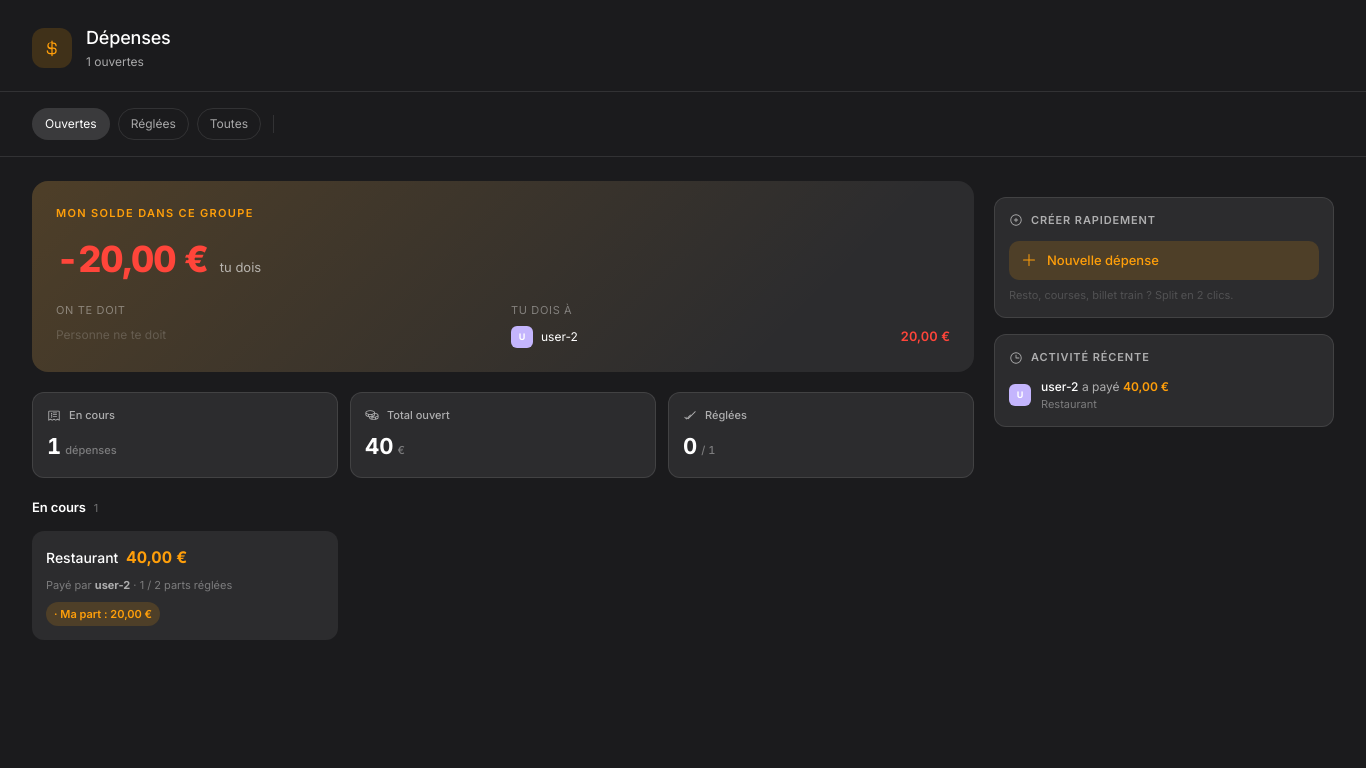
Scenario: Actions destructives — grisées, jamais masquées (MAN-246) › ExpensesDashboard › laisse « Supprimer » visible et inerte pour un membre simple qui n'est pas l'auteur
Step 1. Click the button "Restaurant" → {"x": 185, "y": 586}, box [32, 531, 338, 640]
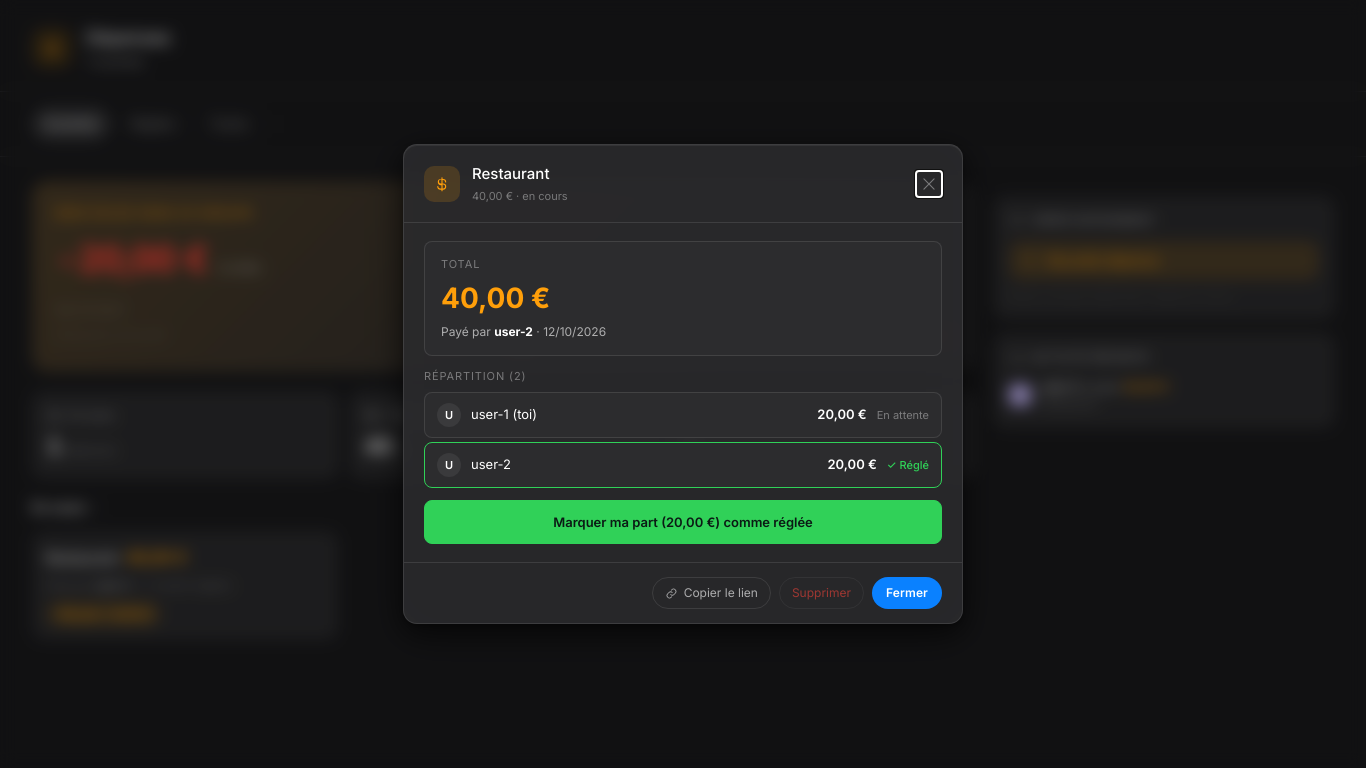
Check: the button "Supprimer" is shown, box [779, 577, 864, 609]
